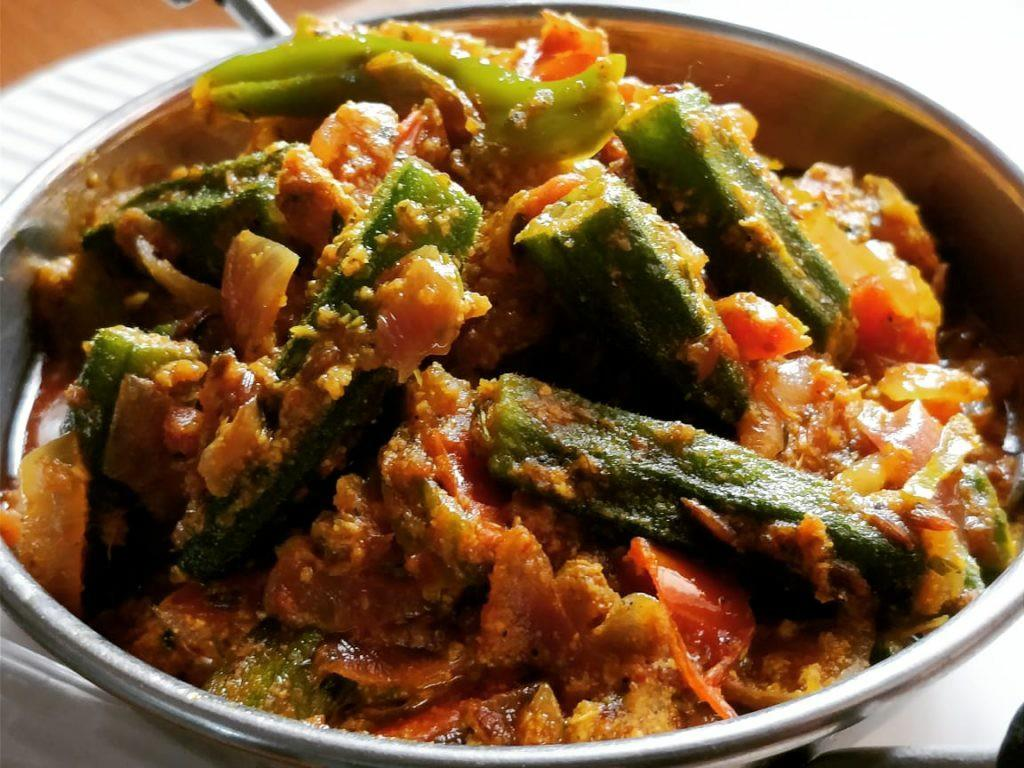BhindiMasala: (3, 9, 1024, 749)
